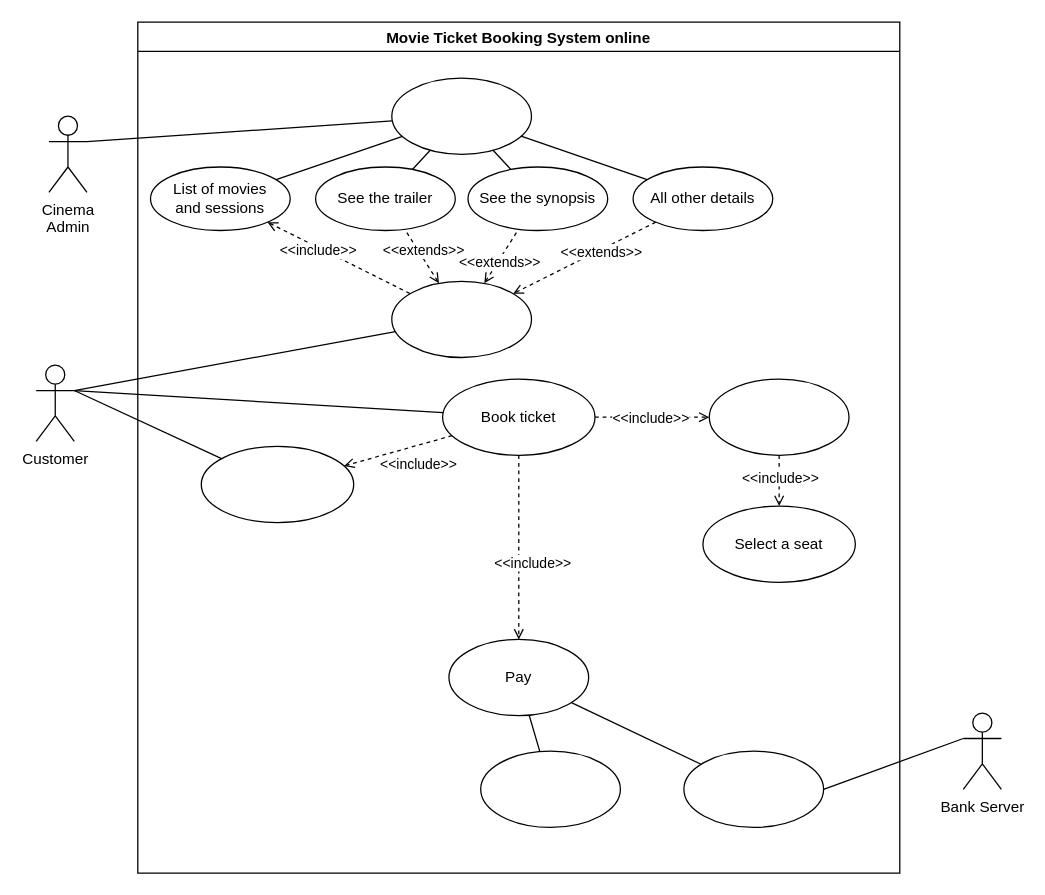
Some shapes in this 1045 by 895 pixel diagram are drawn without their labels. Each missing label, with the centre of its shape:
Choose a session (date, hour): the point at 778,416
Pay by credit card: the point at 753,788
Pay by subscription card: the point at 549,788
Search a movie: the point at 461,319
Sign Up/Sign In: the point at 277,484
Update: the point at 461,115
